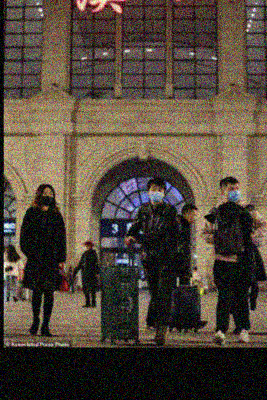with_mask: (224, 184, 241, 201), (149, 185, 164, 202), (40, 191, 53, 205)
without_mask: (189, 212, 197, 224)
